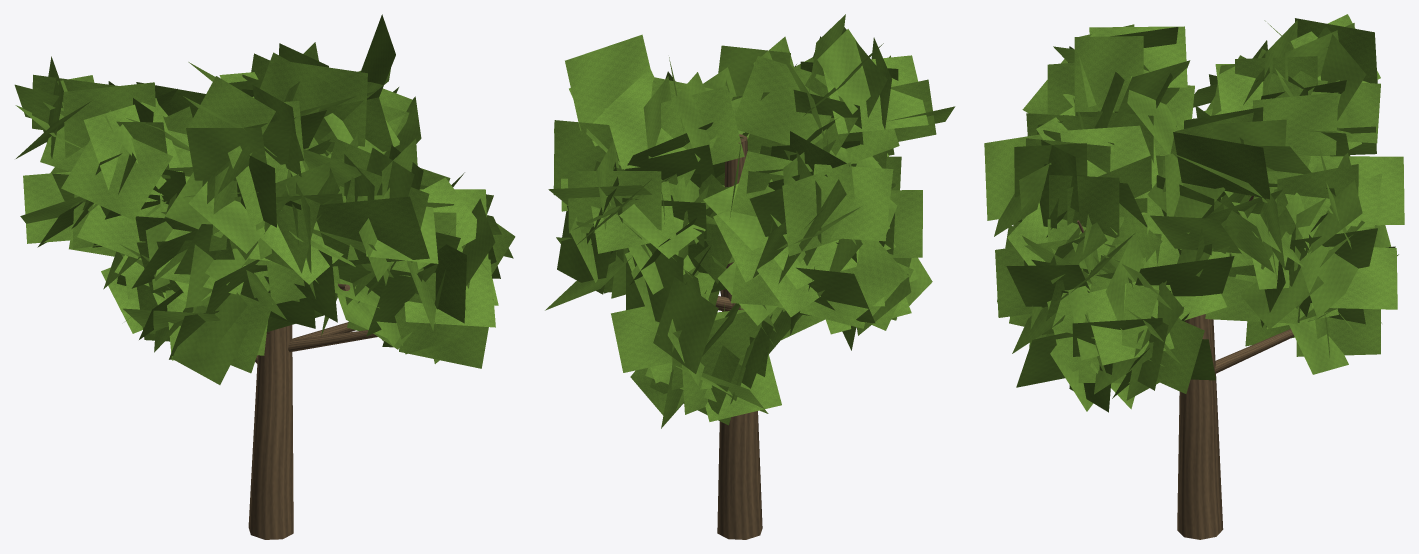
3 renders of one model, left to right at view 1: azimuth 30°, elevation 25°; view 2: azimuth 150°, elevation 25°; view 3: azimuth 270°, elevation 25°, orthographic.
Parts seen in each view (by area): view 1: oak-leaf, oak-bark; view 2: oak-leaf, oak-bark; view 3: oak-leaf, oak-bark.
Part boxes in pixels (box(x1,y1,x2,y2)): oak-leaf: box(14, 14, 515, 384); oak-bark: box(248, 283, 377, 539); oak-leaf: box(545, 14, 955, 428); oak-bark: box(715, 134, 762, 539); oak-leaf: box(984, 14, 1404, 412); oak-bark: box(1077, 196, 1294, 539).
Bounding box in the file's own units: 8.36 × 9.52 × 7.67.
Materials: 2 (2 with a texture image).
